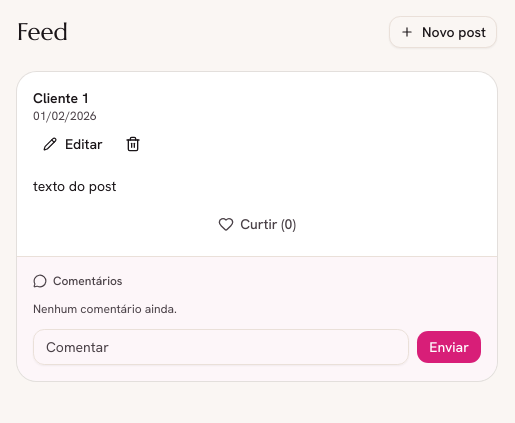
Test: FeedPage › pede confirmação e mostra a mensagem de erro original quando apagar post falha
This screenshot has width=515, height=423.
Click the button named "apagar post". click: (133, 144)
box: x1=117 y1=128 x2=149 y2=160
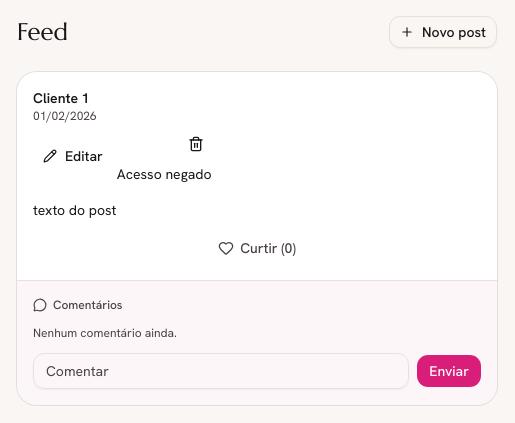
Now the message reads "Acesso negado", box x1=117 y1=165 x2=212 y2=183
